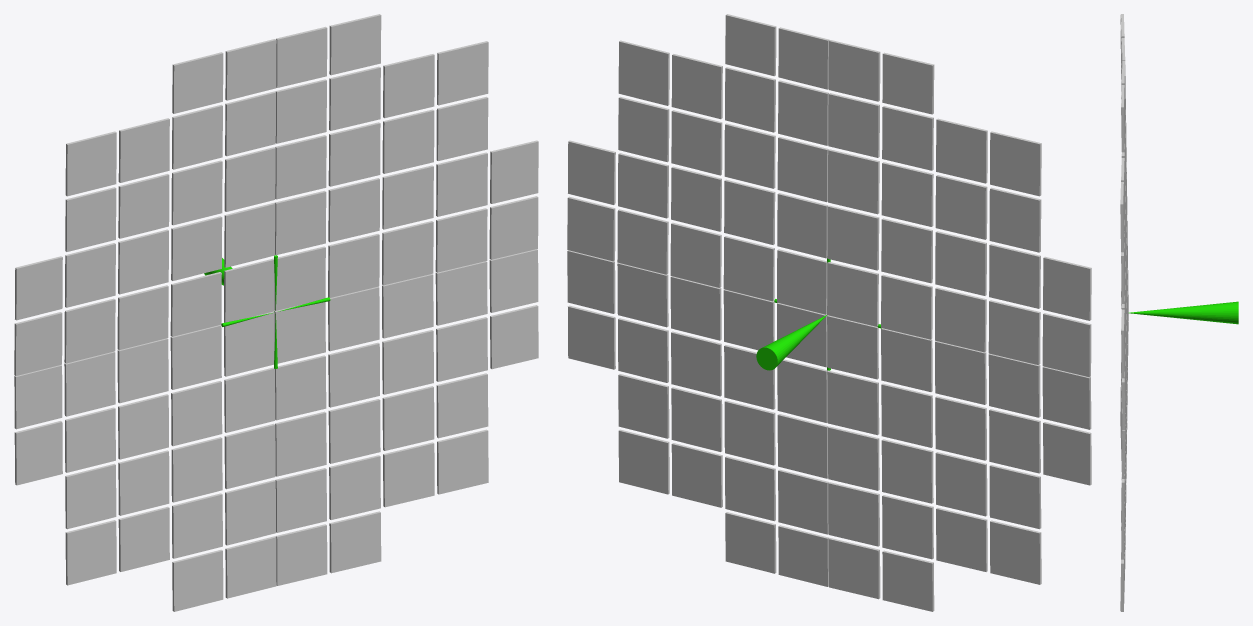
The model's file is Indicator.fbx.
3 renders of one model, left to right at view 1: azimuth 30°, elevation 25°; view 2: azimuth 150°, elevation 25°; view 3: azimuth 270°, elevation 25°, orthographic. The views are drawn at different scales.
Visible parts, largest first — view 1: Cone.001; view 2: Cone.001; view 3: Cone.001.
Boxes of the visible parts, box(x1,y1,x2,y2) form: Cone.001: box(14, 14, 538, 611); Cone.001: box(567, 14, 1091, 611); Cone.001: box(1120, 14, 1238, 611).
Bounding box in the file's own units: 207 × 976 × 976.
